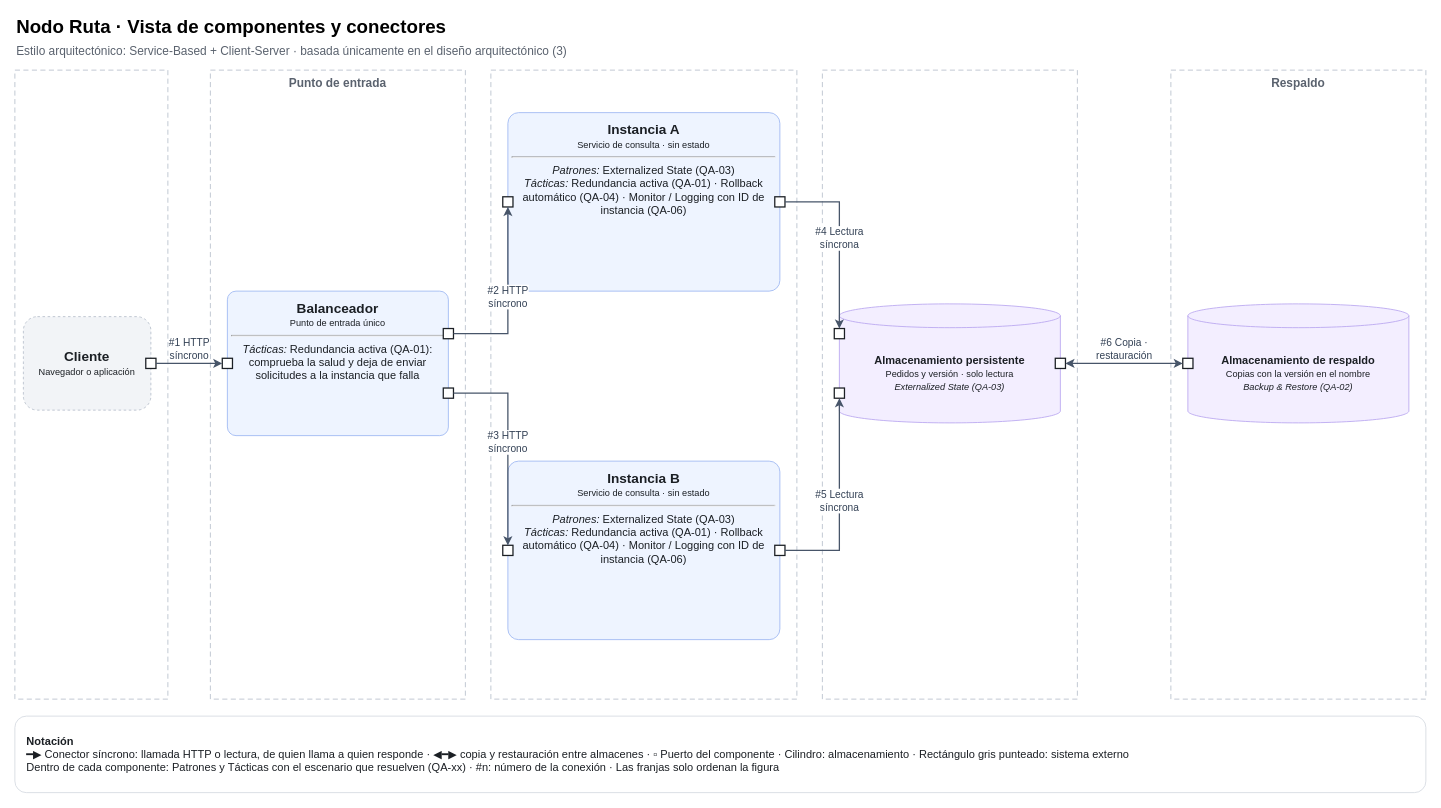
Image size: 1441x808. Some labels were removed from this diagram. Here are the shapes that lost their labels. From the top down, the box of each, then its label:
(14, 69, 168, 699): Externo (entrada)
(490, 69, 797, 699): Servicio de consulta · 2 instancias sin estado
(822, 69, 1077, 699): Datos
